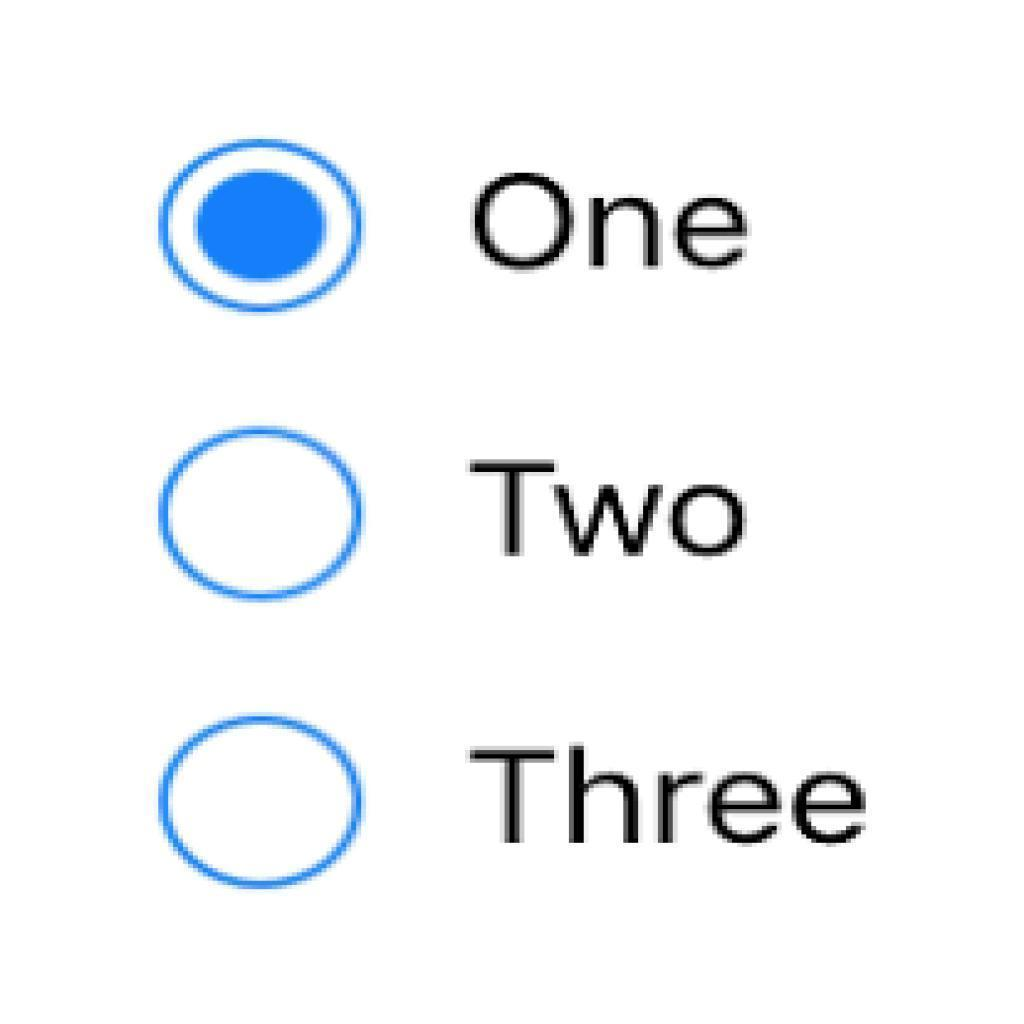label: (462, 733, 875, 874), (458, 439, 753, 584), (463, 170, 755, 287)
radio: (146, 136, 371, 322), (153, 426, 371, 611), (153, 715, 368, 891)
